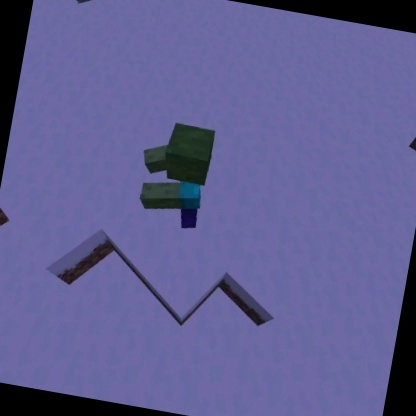zombie: (129, 114, 222, 235)
